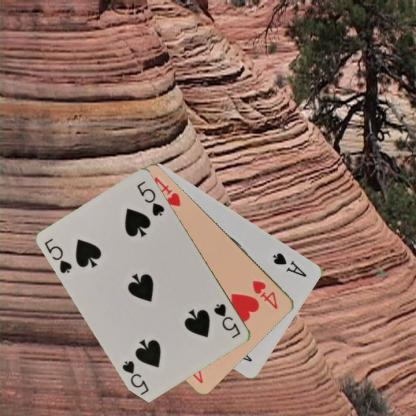4h: (250, 277, 280, 311)
5s: (42, 235, 74, 275), (212, 300, 242, 340)
As: (270, 250, 308, 279)
